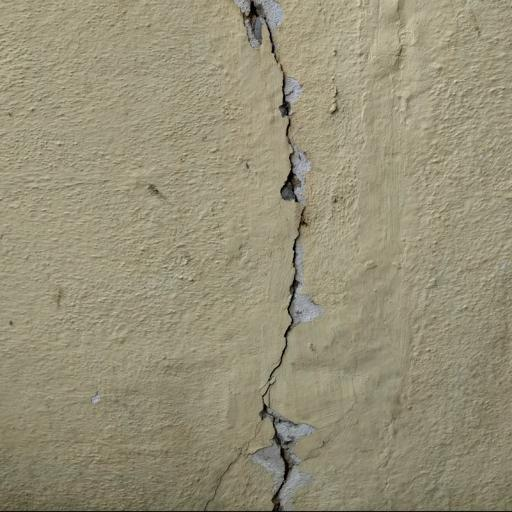major_crack: (220, 0, 349, 512)
